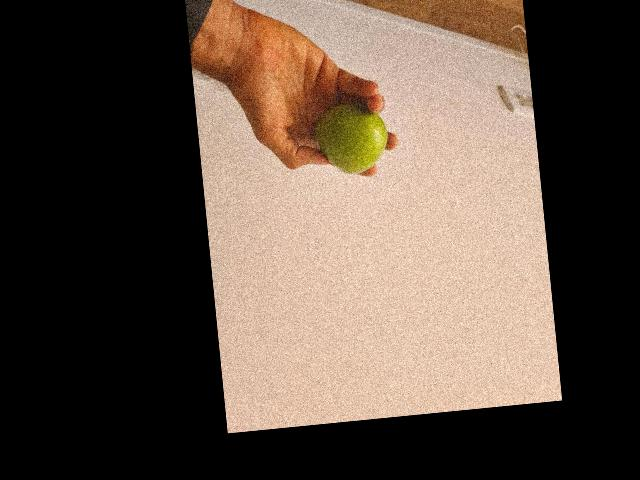apple: (315, 95, 392, 174)
